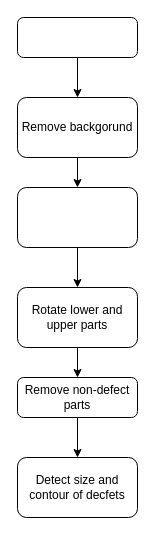
Some shapes in this 155 by 535 pixel diagram are drawn without their labels. Each missing label, with the centre of its shape:
"Capture frame" belongs at pixel 77 37.
"Detect lower and upper parts" belongs at pixel 77 217.
